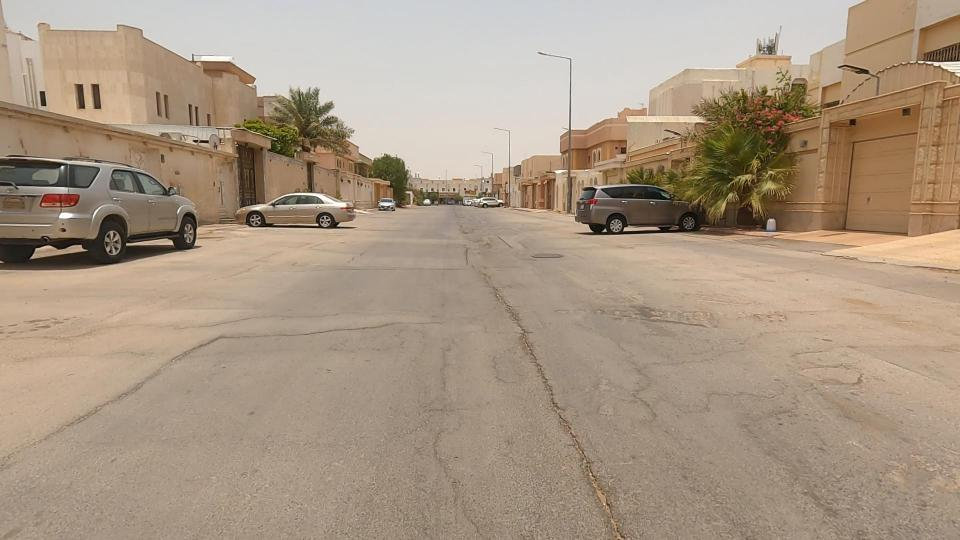POTHOLES: (454, 271, 672, 540), (454, 218, 556, 400)
